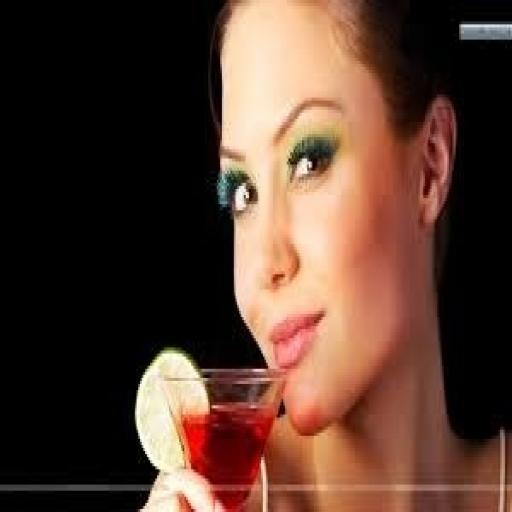drinking: (158, 363, 286, 509)
